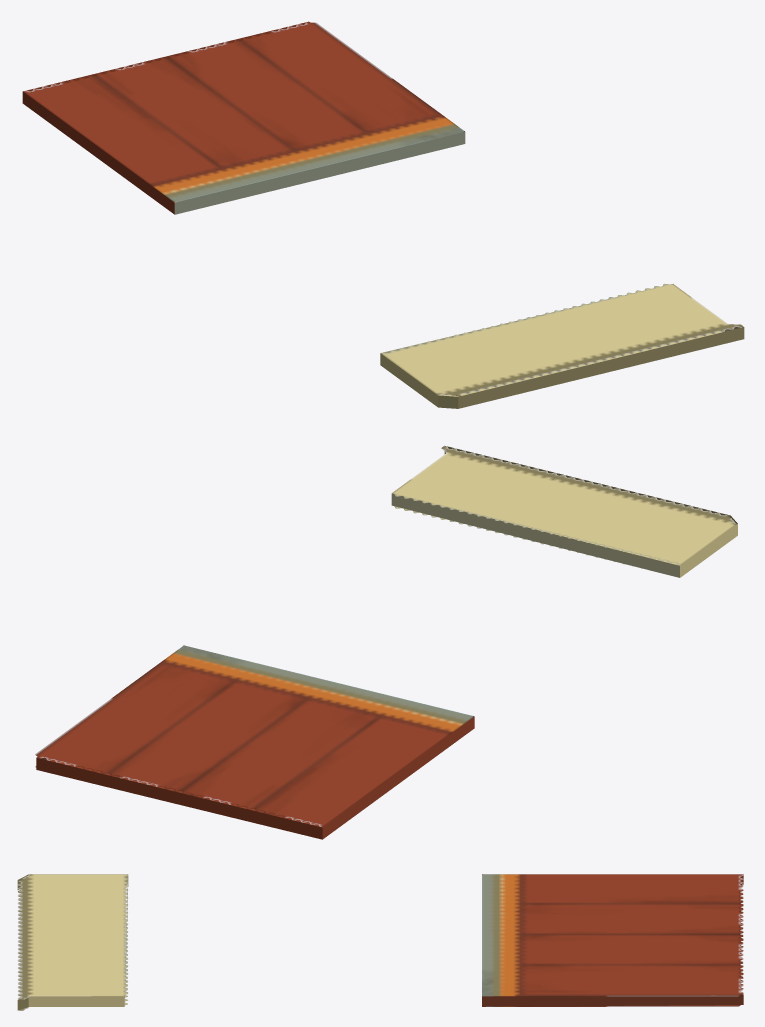
File: pz_native_location_restaurant_spiffos_01_21_frame.obj
The picture shows the model from 3 angles, top to bottom: view 1: azimuth 30°, elevation 25°; view 2: azimuth 150°, elevation 25°; view 3: azimuth 270°, elevation 25°; orthographic projection. The views are drawn at different scales.
Visible parts, largest first — view 1: pz_native_location_restaurant_spiffos_01_21_frame; view 2: pz_native_location_restaurant_spiffos_01_21_frame; view 3: pz_native_location_restaurant_spiffos_01_21_frame.
Boxes of the visible parts, x1,y1,x2,y2 form: pz_native_location_restaurant_spiffos_01_21_frame: (22,21,744,408); pz_native_location_restaurant_spiffos_01_21_frame: (35,446,737,839); pz_native_location_restaurant_spiffos_01_21_frame: (17,874,743,1010).
Bounding box in the file's own units: 1.06 × 0.04 × 2.55.
1 material, 1 textured.
